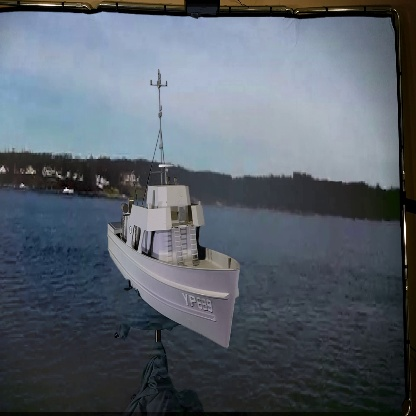YP689: (106, 76, 241, 347)
